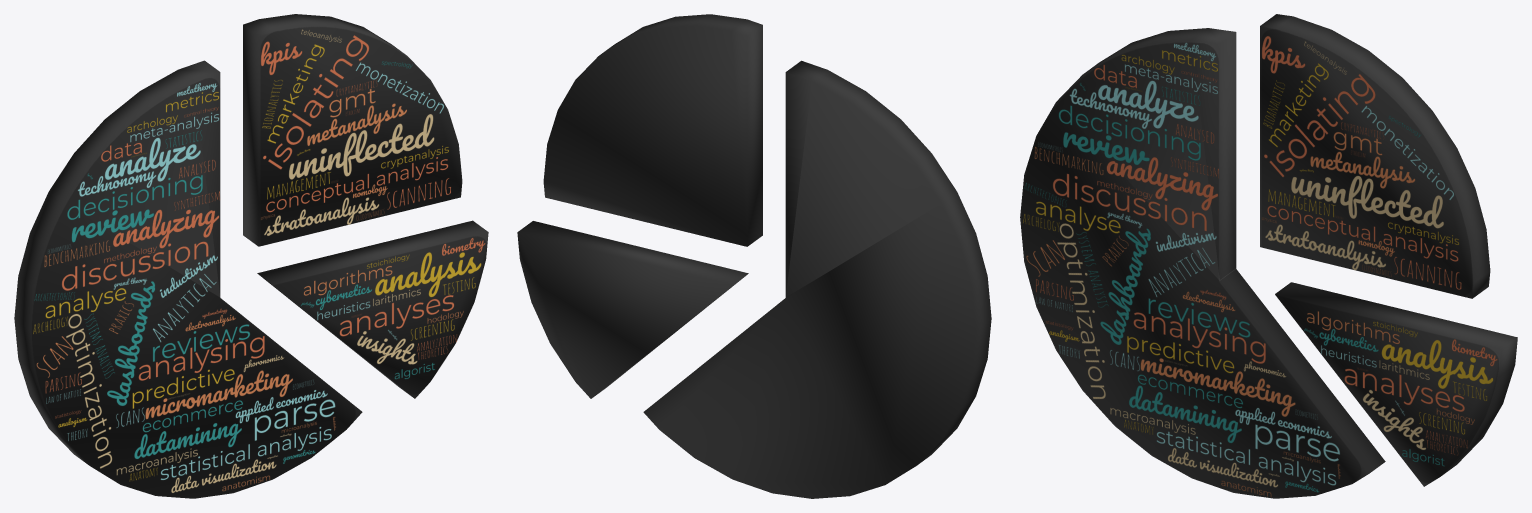
The model's file is wordcloud.glb.
3 renders of one model, left to right at view 1: azimuth 30°, elevation 25°; view 2: azimuth 150°, elevation 25°; view 3: azimuth 330°, elevation 25°, orthographic. The views are drawn at different scales.
Parts seen in each view (by area): view 1: Cylinder.001; view 2: Cylinder.001; view 3: Cylinder.001.
Part boxes in pixels (<box>): Cylinder.001: <box>14,14,488,498</box>; Cylinder.001: <box>517,14,991,498</box>; Cylinder.001: <box>1020,14,1517,498</box>.
Size of the model in its own units: 5.04 by 4.75 by 0.3044.
Materials: 2 (1 with a texture image).
